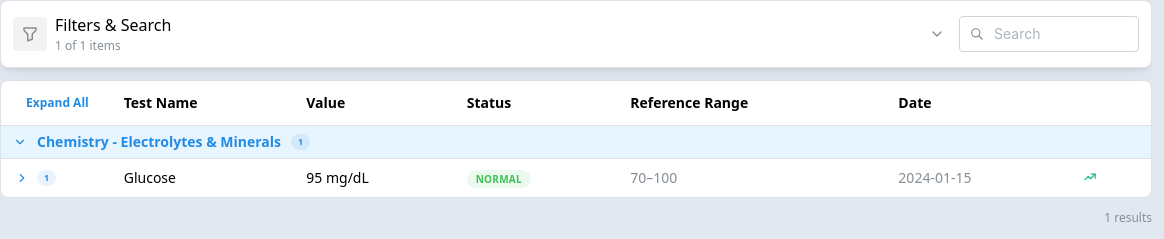
Test case: LabResultsComponentTable › collapses category group when category header is clicked
Expected: the row with test id "summary-row-glucose" is shown, [1,158,1151,197]
Click the row with test id "category-row-chemistry" at (576, 142), box [1,125,1151,158]
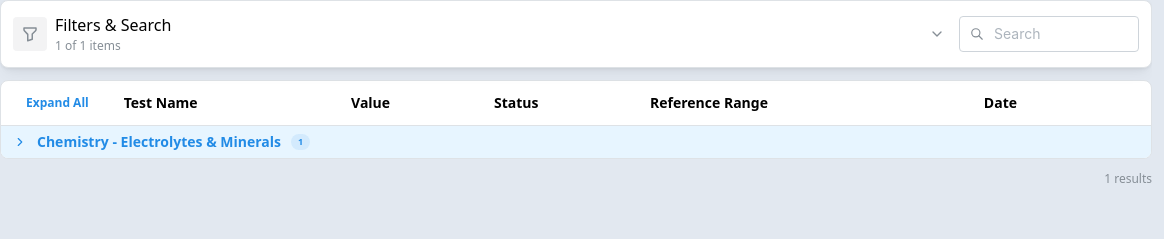
Expected: the row with test id "summary-row-glucose" is gone
Click again to expand
Click the row with test id "category-row-chemistry" at (576, 142), box [1,125,1151,158]
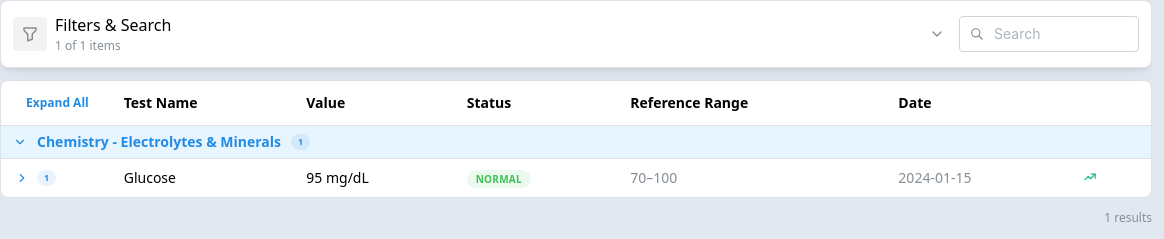
Expected: the row with test id "summary-row-glucose" is shown, [1,158,1151,197]
